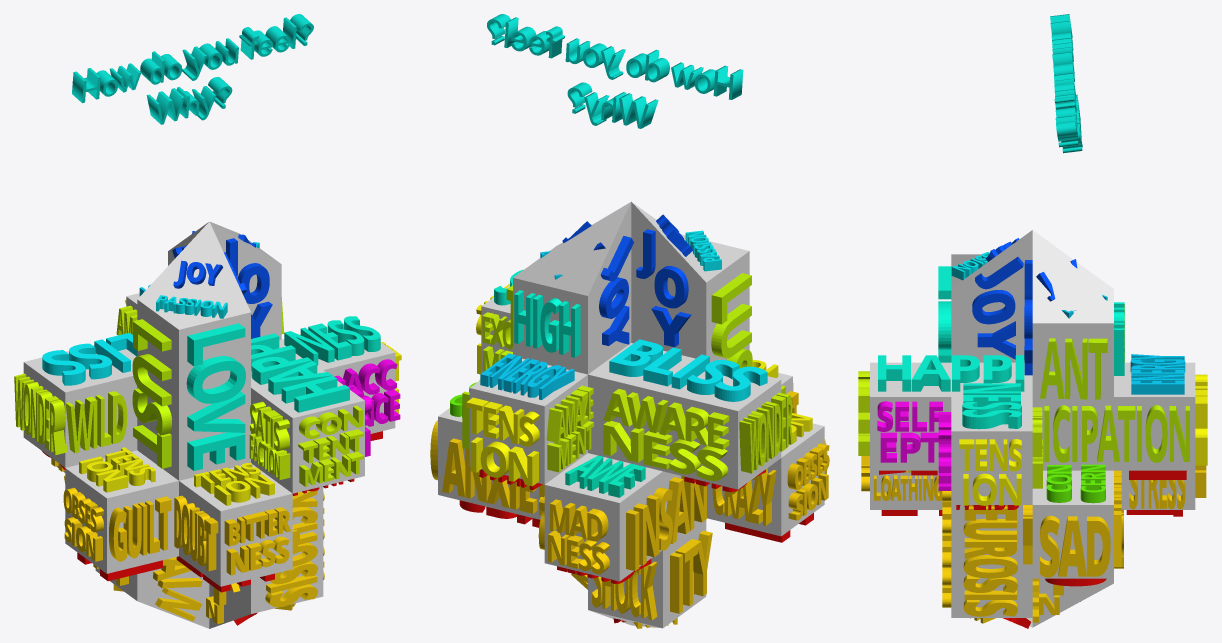
Rendered from asset.glb.
3 renders of one model, left to right at view 1: azimuth 30°, elevation 25°; view 2: azimuth 150°, elevation 25°; view 3: azimuth 270°, elevation 25°, orthographic. The views are drawn at different scales.
Visible parts, largest first — view 1: 371_PERSONA_SHAPE, Text, 177_LOVE_-_O, 134_HAPPINESS_2_-_H, 179_LOVE_-_E, 178_LOVE_-_V, 181_LUST_-_U, 356_WILD_-_W, 176_LOVE_-_L, 130_HAPPINESS_1_-_N, 076_BLISS_-_S, 182_LUST_-_S (+24 smaller); view 2: 371_PERSONA_SHAPE, Text, 181_LUST_-_U, 148_INSANITY_1_-_N, 072_BLISS_-_B, 043_AWARENESS_2_-_N, 076_BLISS_-_S, 039_AWARENESS_1_-_W, 161_JOY_13_-_O, 360_WONDER_-_W, 146_HIGH_-_H, 031_ANXIETY_-_A (+42 smaller); view 3: 371_PERSONA_SHAPE, Text, 305_SAD_-_D, 304_SAD_-_A, 171_JOY_9_-_O, 020_ANTICIPATION_1_-_N, 200_NEUROSIS_-_O, 133_HAPPINESS_1_-_S, 135_HAPPINESS_2_-_A, 198_NEUROSIS_-_U, 303_SAD_-_S, 134_HAPPINESS_2_-_H (+26 smaller).
Part boxes in pixels (left/top/right/bottom): 371_PERSONA_SHAPE: left=23, top=221, right=395, bottom=628; Text: left=72, top=14, right=313, bottom=124; 177_LOVE_-_O: left=186, top=356, right=245, bottom=403; 134_HAPPINESS_2_-_H: left=281, top=375, right=349, bottom=412; 179_LOVE_-_E: left=187, top=432, right=245, bottom=470; 178_LOVE_-_V: left=187, top=391, right=245, bottom=432; 181_LUST_-_U: left=132, top=354, right=171, bottom=406; 356_WILD_-_W: left=65, top=397, right=93, bottom=453; 176_LOVE_-_L: left=187, top=323, right=245, bottom=366; 130_HAPPINESS_1_-_N: left=284, top=327, right=334, bottom=365; 076_BLISS_-_S: left=42, top=350, right=85, bottom=385; 182_LUST_-_S: left=132, top=388, right=171, bottom=435; 371_PERSONA_SHAPE: left=438, top=201, right=824, bottom=628; Text: left=487, top=14, right=743, bottom=128; 181_LUST_-_U: left=711, top=303, right=751, bottom=358; 148_INSANITY_1_-_N: left=633, top=495, right=659, bottom=565; 072_BLISS_-_B: left=609, top=339, right=662, bottom=376; 043_AWARENESS_2_-_N: left=603, top=421, right=644, bottom=462; 076_BLISS_-_S: left=714, top=366, right=767, bottom=401; 039_AWARENESS_1_-_W: left=626, top=392, right=668, bottom=433; 161_JOY_13_-_O: left=654, top=266, right=688, bottom=308; 360_WONDER_-_W: left=739, top=414, right=759, bottom=473; 146_HIGH_-_H: left=559, top=301, right=580, bottom=357; 031_ANXIETY_-_A: left=442, top=438, right=465, bottom=497; 371_PERSONA_SHAPE: left=870, top=230, right=1195, bottom=627; Text: left=1050, top=14, right=1082, bottom=153; 305_SAD_-_D: left=1087, top=516, right=1110, bottom=576; 304_SAD_-_A: left=1058, top=516, right=1086, bottom=576; 171_JOY_9_-_O: left=972, top=290, right=1015, bottom=324; 020_ANTICIPATION_1_-_N: left=1065, top=338, right=1087, bottom=399; 200_NEUROSIS_-_O: left=963, top=555, right=1017, bottom=578; 133_HAPPINESS_1_-_S: left=962, top=410, right=1021, bottom=429; 135_HAPPINESS_2_-_A: left=911, top=355, right=950, bottom=391; 198_NEUROSIS_-_U: left=963, top=519, right=1016, bottom=539; 303_SAD_-_S: left=1040, top=515, right=1059, bottom=577; 134_HAPPINESS_2_-_H: left=878, top=355, right=910, bottom=391.
Bounding box in the file's own units: 3.57 × 6.31 × 3.58.
